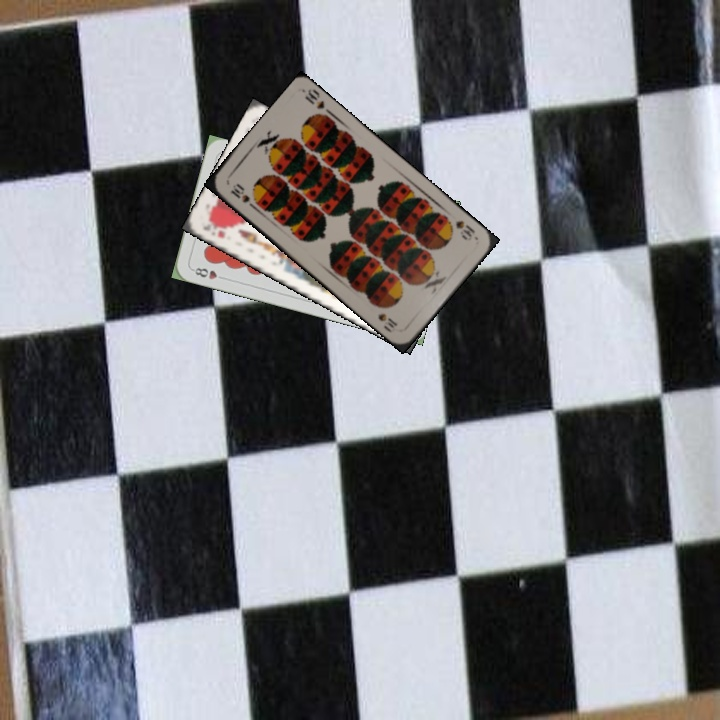H8: (188, 263, 228, 282)
HK: (199, 216, 229, 241)
S10: (227, 181, 258, 211), (451, 216, 477, 242)
